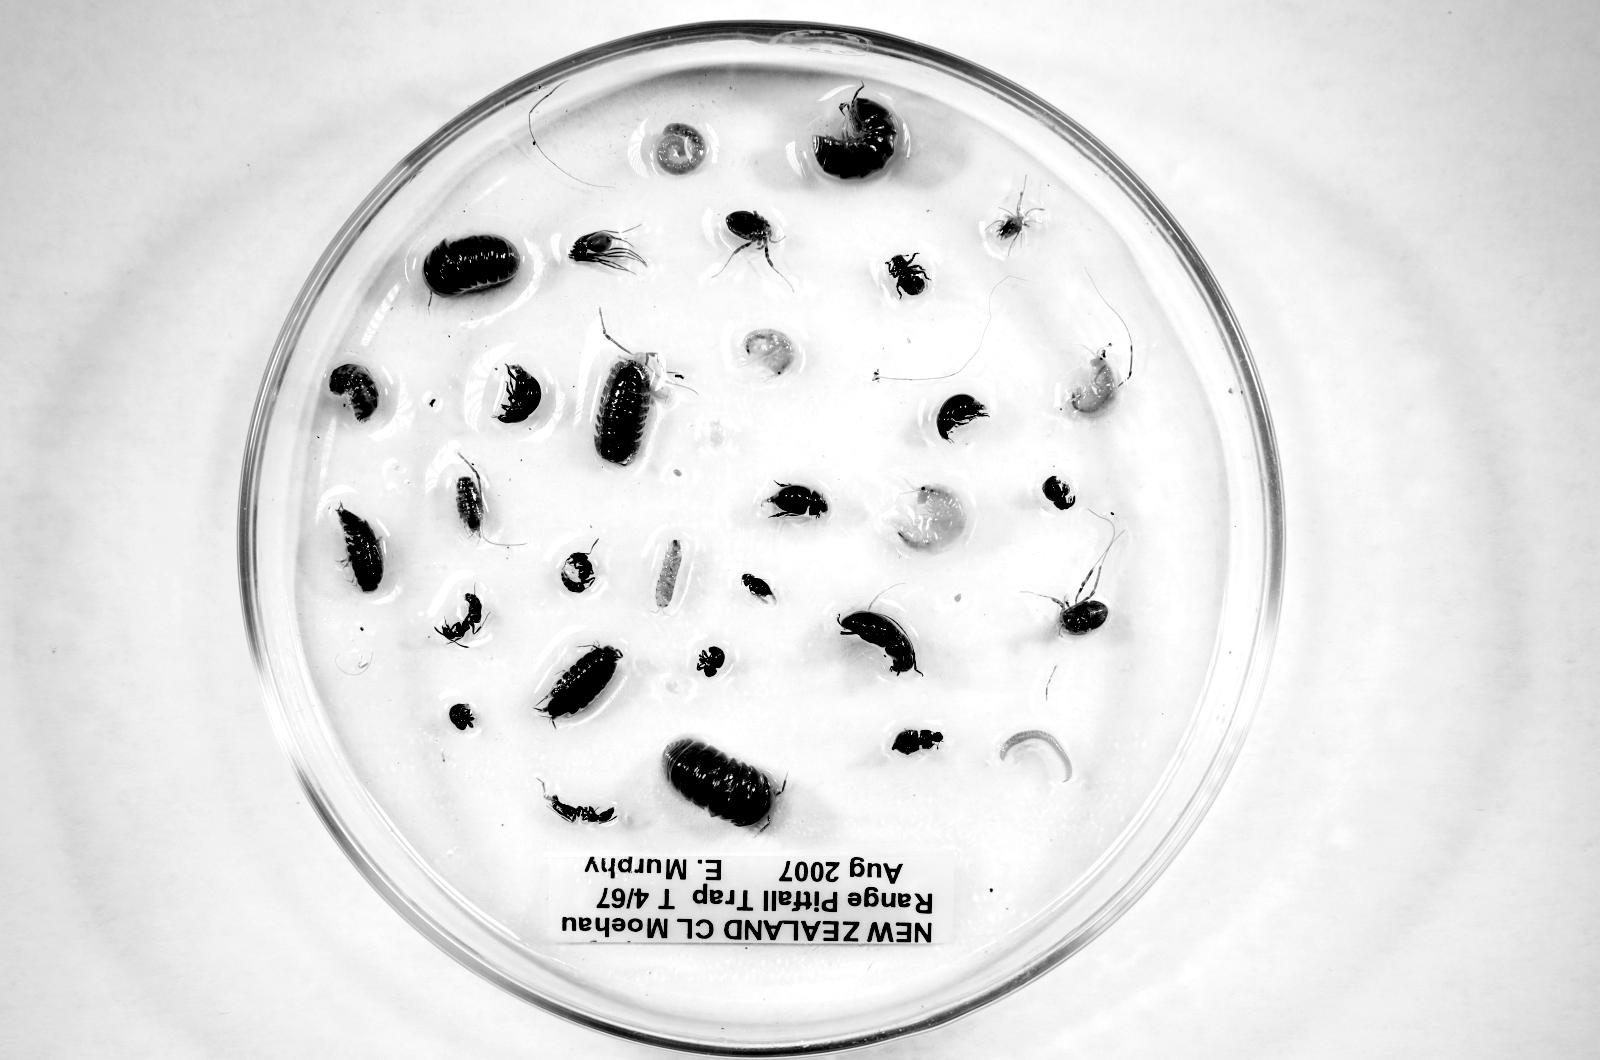acari: (985, 190, 1044, 240)
amphipoda: (888, 484, 966, 552), (840, 610, 916, 674), (1064, 349, 1122, 416), (743, 329, 796, 375)
coleoptera: (497, 364, 542, 424), (937, 394, 987, 440), (767, 484, 827, 517), (885, 254, 929, 296), (890, 729, 944, 755), (1042, 476, 1076, 510), (741, 573, 776, 603), (697, 646, 725, 677), (448, 703, 474, 730)
diplopoda: (999, 730, 1073, 781), (654, 123, 707, 175)
formicidae: (436, 593, 482, 642), (545, 793, 615, 823), (561, 552, 595, 593)
isopoda: (662, 737, 784, 826), (811, 88, 903, 179), (595, 353, 669, 465), (537, 645, 622, 722), (423, 234, 520, 296), (337, 508, 383, 590), (329, 363, 378, 421), (655, 539, 681, 609), (456, 474, 485, 537)
opiliones: (1044, 556, 1108, 634), (569, 230, 648, 271), (725, 211, 773, 269)
